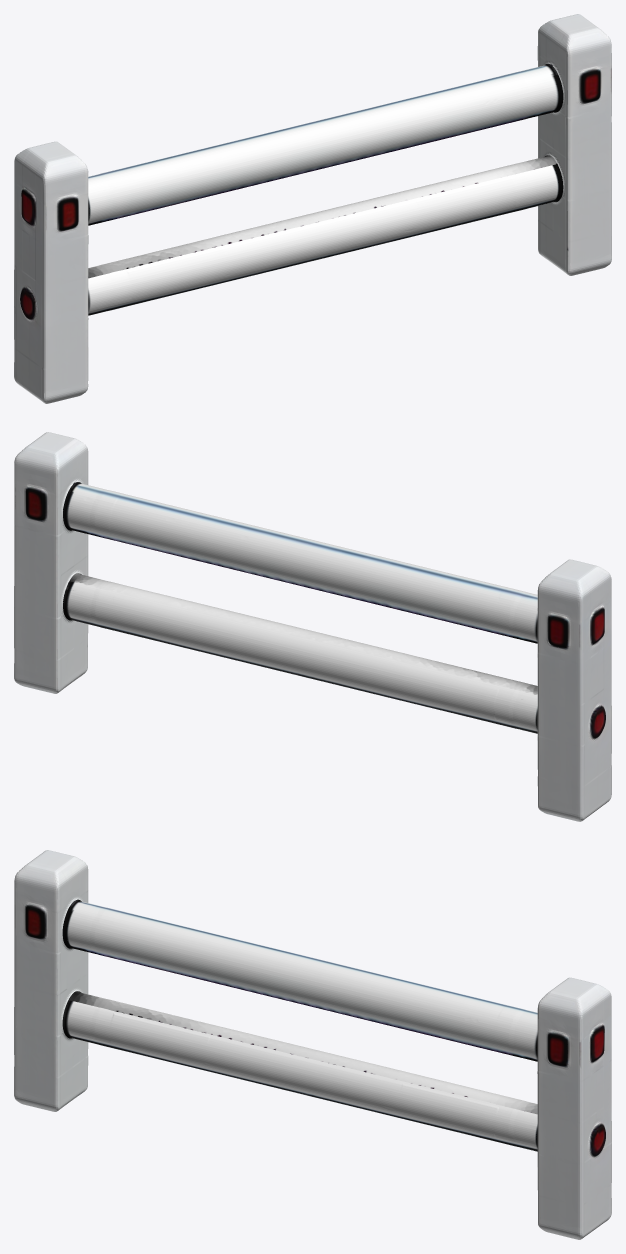
The model's file is safety_fence.glb.
3 renders of one model, top to bottom at view 1: azimuth 30°, elevation 25°; view 2: azimuth 150°, elevation 25°; view 3: azimuth 330°, elevation 25°, orthographic.
Parts seen in each view (by area): view 1: tmplvbjwhqz.ply; view 2: tmplvbjwhqz.ply; view 3: tmplvbjwhqz.ply.
Part boxes in pixels (left/top/right/bottom): tmplvbjwhqz.ply: left=14, top=14, right=611, bottom=403; tmplvbjwhqz.ply: left=14, top=432, right=611, bottom=821; tmplvbjwhqz.ply: left=14, top=850, right=611, bottom=1239.
Bounding box in the file's own units: 2 × 0.7989 × 0.2108.
1 material, 1 textured.
